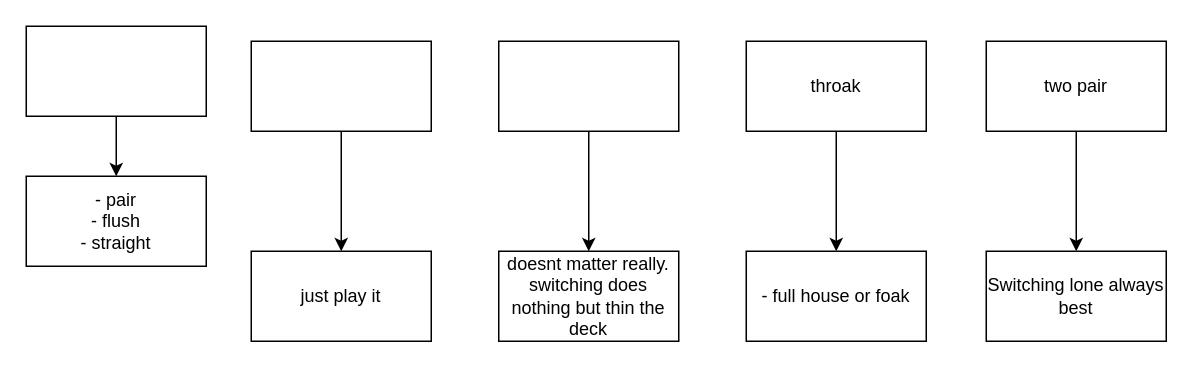
Some shapes in this 1193 by 368 pixel diagram are drawn without their labels. The shapes that lost their labels are listed below. From the top down, each one's box as (x1, y1, x2, y2) in pixels, then its label:
(25, 25, 206, 116): high card
(250, 40, 431, 131): straight, flush, royal
(497, 40, 679, 131): foak
